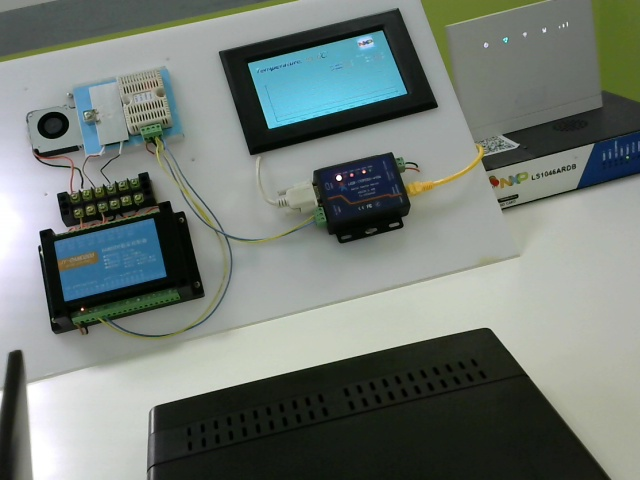fan: (18, 102, 82, 163)
heater: (87, 84, 128, 149)
relay: (39, 217, 216, 322)
termperature: (306, 153, 428, 245), (123, 72, 174, 145)
